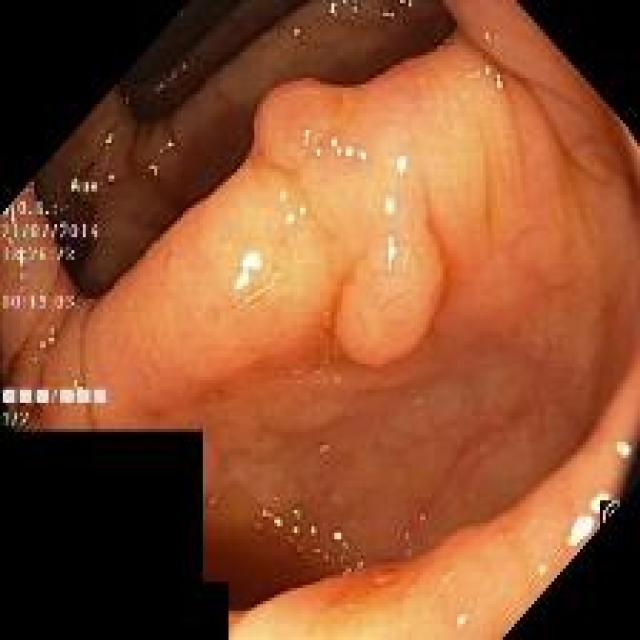Polyps: (335, 225, 444, 367), (255, 81, 339, 170)
